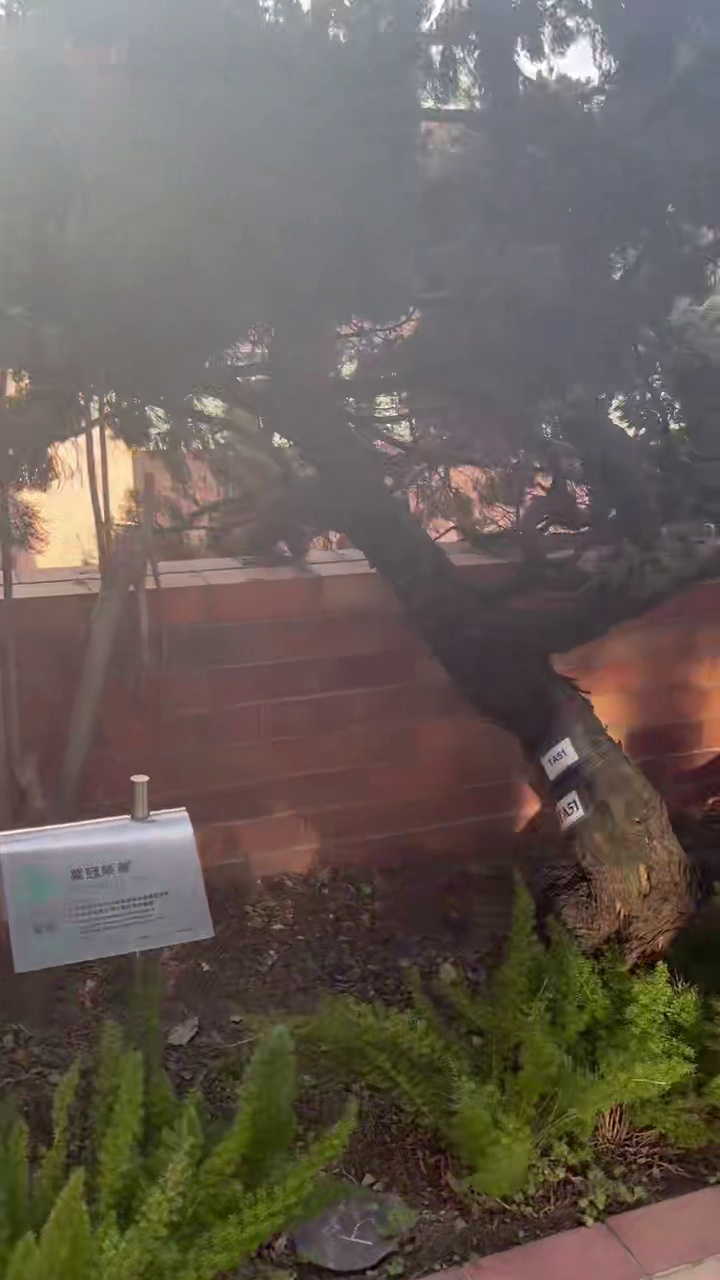Juniperus chinensis: (0, 0, 719, 956)
